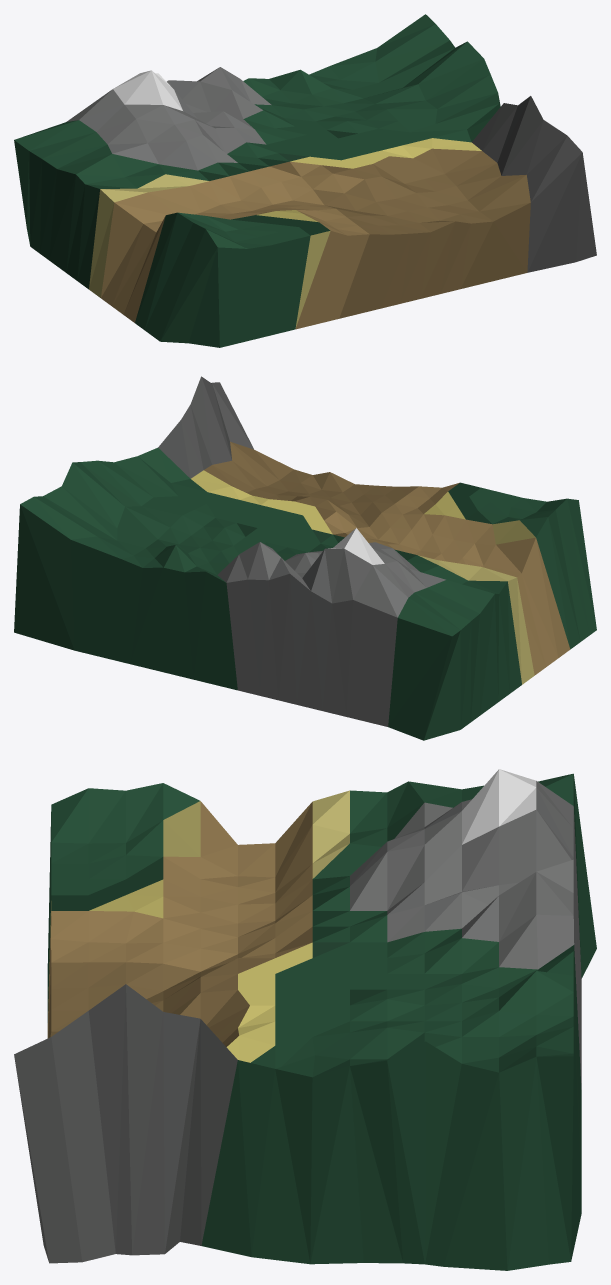
The model's file is terrain_base_final.fbx.
3 renders of one model, top to bottom at view 1: azimuth 30°, elevation 25°; view 2: azimuth 150°, elevation 25°; view 3: azimuth 270°, elevation 25°, orthographic. The views are drawn at different scales.
Parts seen in each view (by area): view 1: terrain:pPlane1; view 2: terrain:pPlane1; view 3: terrain:pPlane1.
Part boxes in pixels (bbox=[...]): terrain:pPlane1: bbox=[14, 14, 596, 347]; terrain:pPlane1: bbox=[14, 376, 596, 740]; terrain:pPlane1: bbox=[14, 769, 596, 1270].
Size of the model in its own units: 34.21 by 11.99 by 24.94.
